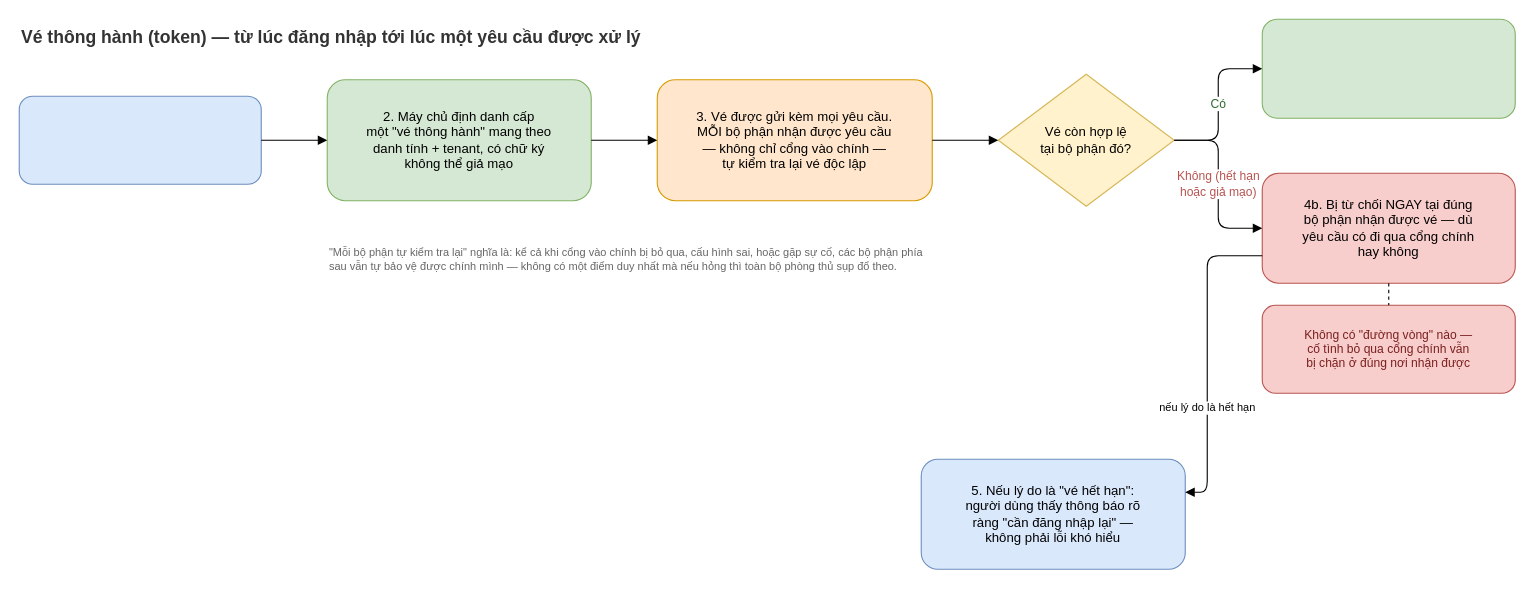
Image size: 1535x589. Some labels were removed from this diagram. The centre of each missing label's shape, as x and y in pixels:
"1. Người dùng đăng nhập với thông tin thật" belongs at (139,139).
"4a. Yêu cầu được xử lý bình thường — danh tính/tenant dùng đúng như trước" belongs at (1388,68).
